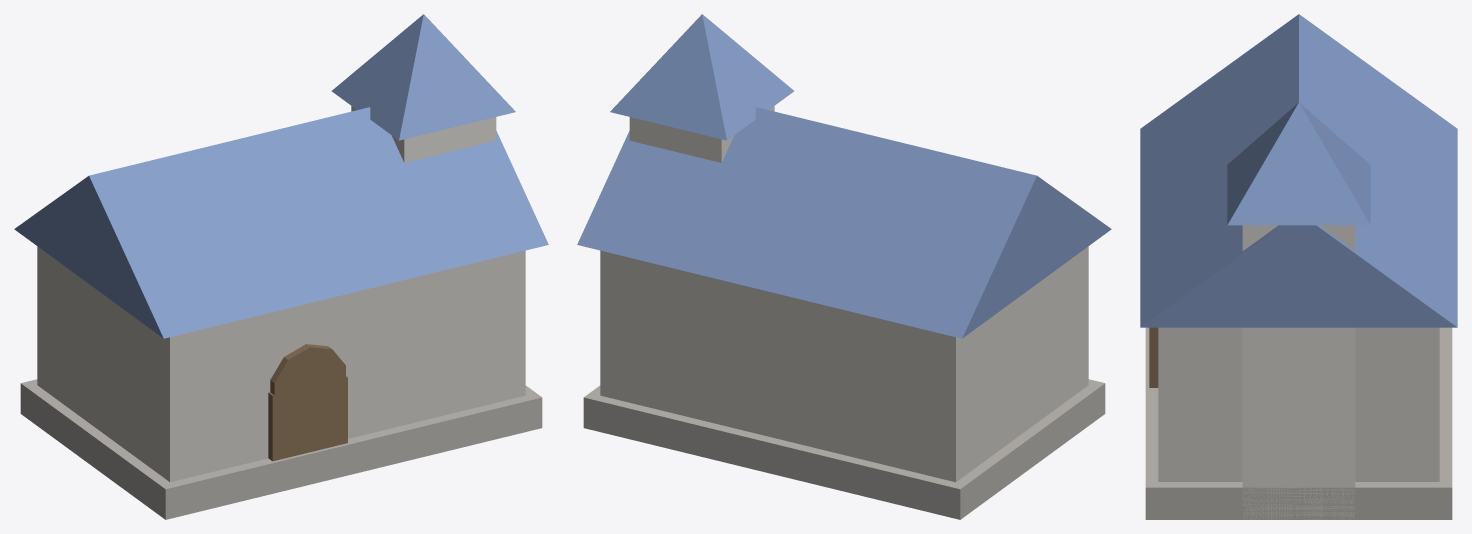
The picture shows the model from 3 angles, left to right: view 1: azimuth 30°, elevation 25°; view 2: azimuth 150°, elevation 25°; view 3: azimuth 270°, elevation 25°; orthographic projection. The views are drawn at different scales.
Parts seen in each view (by area): view 1: body; view 2: body; view 3: body.
Part boxes in pixels (<box>): body: <box>14,14,548,519</box>; body: <box>577,14,1111,519</box>; body: <box>1140,14,1457,519</box>.
Size of the model in its own units: 9.4 by 8.5 by 6.2.
